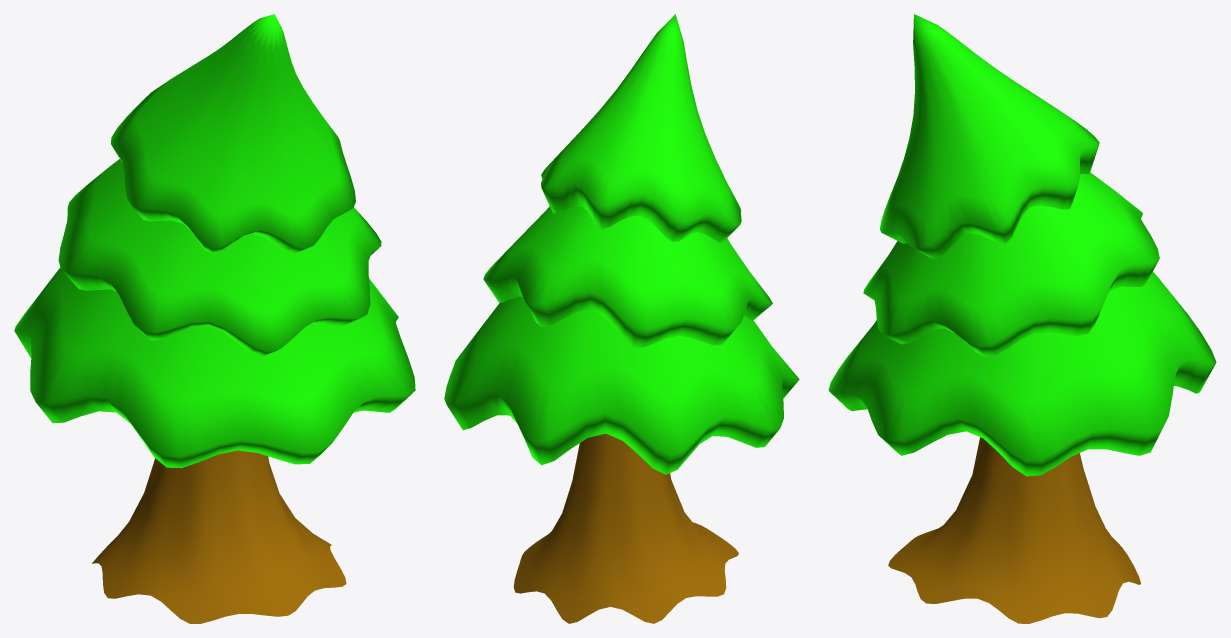
File: pine5.fbx
3 renders of one model, left to right at view 1: azimuth 30°, elevation 25°; view 2: azimuth 150°, elevation 25°; view 3: azimuth 270°, elevation 25°, orthographic. The views are drawn at different scales.
Visible parts, largest first — view 1: pine6; view 2: pine6; view 3: pine6.
Boxes of the visible parts, bbox=[...] form: pine6: bbox=[14, 14, 415, 623]; pine6: bbox=[444, 14, 799, 623]; pine6: bbox=[828, 14, 1216, 623].
Size of the model in its own units: 98.86 by 160 by 98.73.
